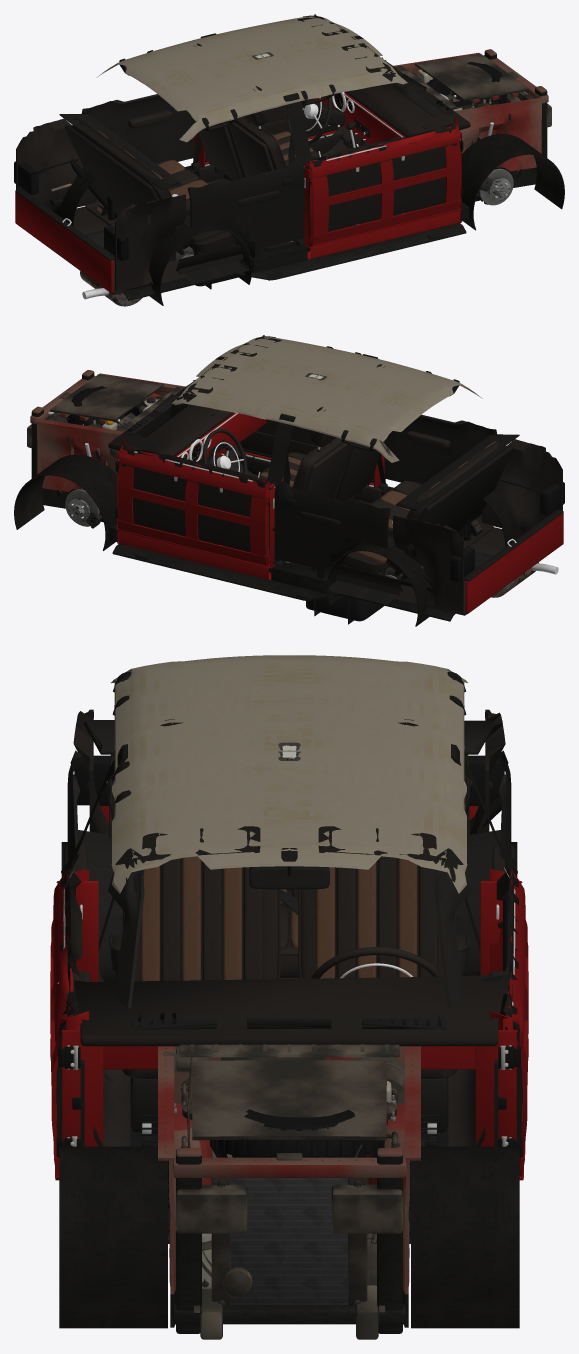
File: jabuti-molde_completo.glb
3 renders of one model, top to bottom at view 1: azimuth 30°, elevation 25°; view 2: azimuth 150°, elevation 25°; view 3: azimuth 270°, elevation 25°, orthographic. The views are drawn at different scales.
Parts seen in each view (by area): view 1: interior_forro_teto, interior_portamalas_carpete, interior_lateral_traseira_dir, door_card_fr_chapa, door_card_fr, interior_banco_traseiro, interior_painel, interior_lateral_traseira_esq, engine_paralama_interno_dir, under_caixa_roda_fr, under_assoalho, hood_manta (+23 smaller); view 2: interior_forro_teto, interior_portamalas_carpete, interior_lateral_traseira_esq, door_card_fl_chapa, door_card_fl, interior_banco_traseiro, interior_painel, interior_lateral_traseira_dir, engine_paralama_interno_esq, under_caixa_roda_fl, under_assoalho, hood_manta (+23 smaller); view 3: interior_forro_teto, interior_painel, engine_travessa, under_caixa_roda_fl, under_caixa_roda_fr, interior_banco_dianteiro_dir, interior_banco_dianteiro_esq, engine_radiador, hood_manta, interior_acabamento_colunas, engine_corta_fogo, jamb_fl_colunas (+21 smaller).
Part boxes in pixels (<box>): interior_forro_teto: <box>96,16,407,142</box>; interior_portamalas_carpete: <box>15,118,185,294</box>; interior_lateral_traseira_dir: <box>183,160,304,284</box>; door_card_fr_chapa: <box>303,118,462,246</box>; door_card_fr: <box>303,123,456,237</box>; interior_banco_traseiro: <box>64,117,236,255</box>; interior_painel: <box>312,57,470,147</box>; interior_lateral_traseira_esq: <box>81,94,194,216</box>; engine_paralama_interno_dir: <box>454,98,544,195</box>; under_caixa_roda_fr: <box>462,134,564,230</box>; under_assoalho: <box>85,223,466,300</box>; hood_manta: <box>415,53,528,103</box>; interior_forro_teto: <box>171,336,482,462</box>; interior_portamalas_carpete: <box>393,439,563,615</box>; interior_lateral_traseira_esq: <box>274,481,395,604</box>; door_card_fl_chapa: <box>116,439,275,567</box>; door_card_fl: <box>122,444,275,558</box>; interior_banco_traseiro: <box>342,438,514,575</box>; interior_painel: <box>108,380,266,461</box>; interior_lateral_traseira_dir: <box>384,414,496,537</box>; engine_paralama_interno_esq: <box>34,418,124,508</box>; under_caixa_roda_fl: <box>14,454,116,550</box>; under_assoalho: <box>112,544,493,621</box>; hood_manta: <box>50,374,163,423</box>; interior_forro_teto: <box>110,655,467,893</box>; interior_painel: <box>73,975,514,1069</box>; engine_travessa: <box>172,1144,406,1333</box>; under_caixa_roda_fl: <box>411,1146,519,1328</box>; under_caixa_roda_fr: <box>59,1146,167,1328</box>; interior_banco_dianteiro_dir: <box>122,719,280,1146</box>; interior_banco_dianteiro_esq: <box>298,719,456,1146</box>; engine_radiador: <box>211,1178,367,1307</box>; hood_manta: <box>192,1060,386,1140</box>; interior_acabamento_colunas: <box>67,744,511,1008</box>; engine_corta_fogo: <box>163,1044,404,1103</box>; jamb_fl_colunas: <box>475,881,522,1146</box>.
Size of what is drawn, in the model's own units: 3.36 by 1.37 by 1.47.
52 materials, 52 textured.
